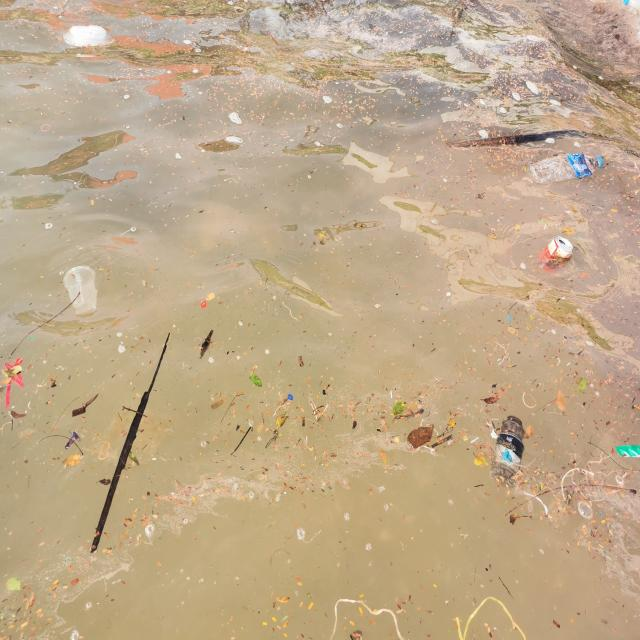can: (537, 236, 575, 272)
foam: (63, 25, 115, 49)
plastic bottle: (494, 416, 530, 487), (527, 156, 607, 185), (626, 2, 640, 24)
